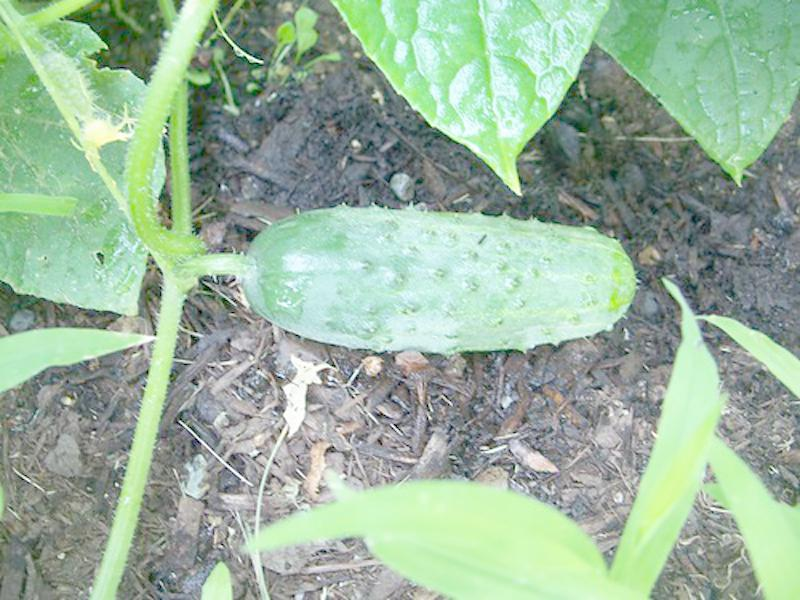Cucumber: (242, 206, 640, 354)
